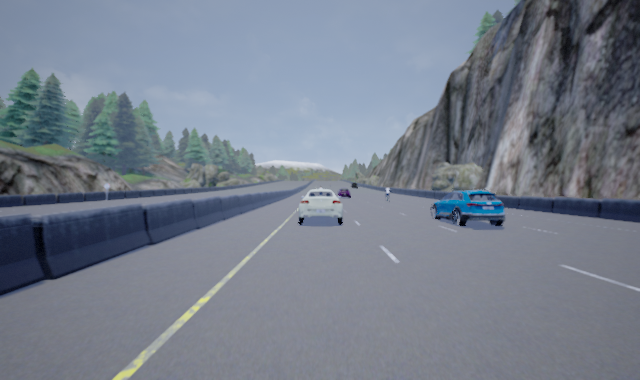bike: (384, 185, 391, 203)
vehicle: (429, 191, 505, 227), (296, 188, 344, 226), (338, 187, 351, 199)
